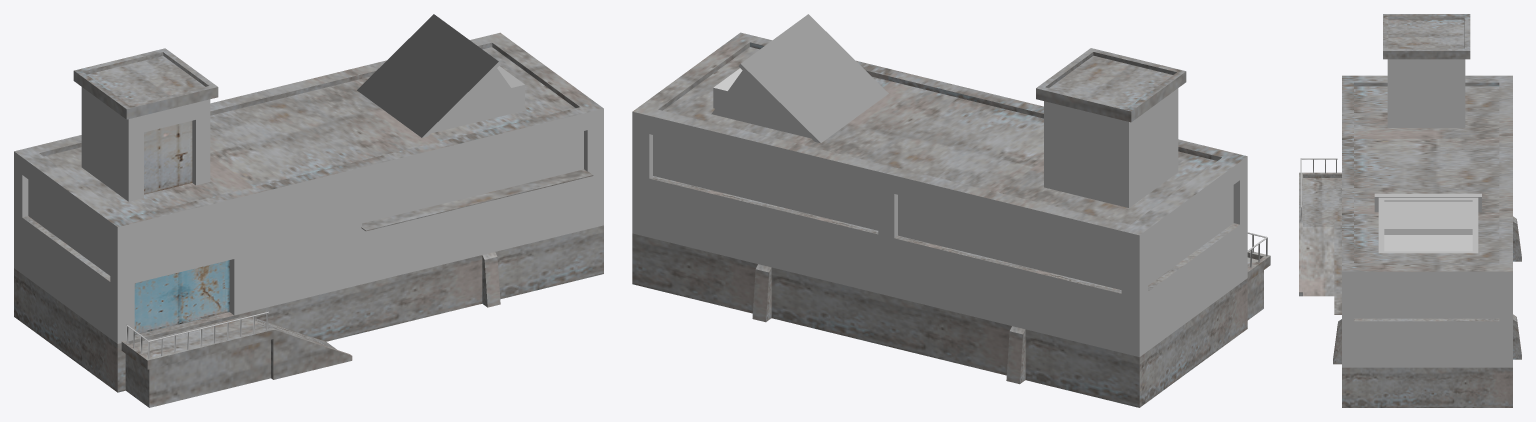
File: hall1.FBX
3 renders of one model, left to right at view 1: azimuth 30°, elevation 25°; view 2: azimuth 150°, elevation 25°; view 3: azimuth 270°, elevation 25°, orthographic. The views are drawn at different scales.
Parts seen in each view (by area): view 1: house; view 2: house; view 3: house.
Boxes of the visible parts, <box> form: house: <box>14,14,603,407</box>; house: <box>632,14,1270,407</box>; house: <box>1299,14,1521,407</box>.
Bounding box in the file's own units: 4.69 × 2.37 × 2.25.
